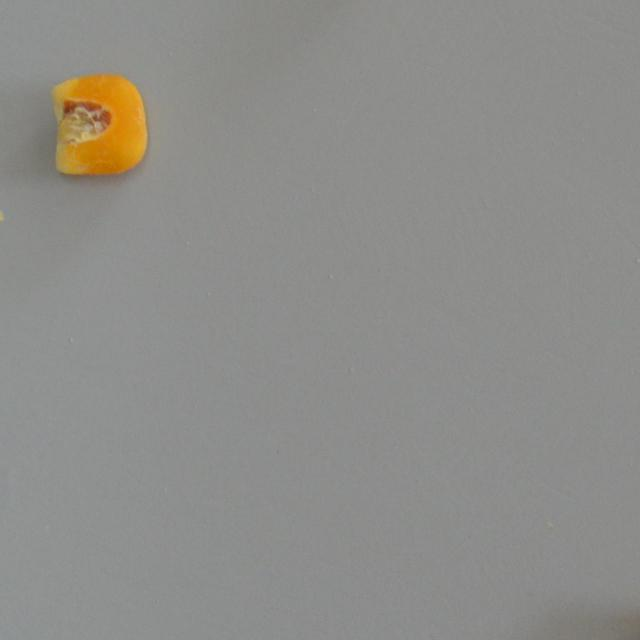dañado: (44, 66, 153, 180)
